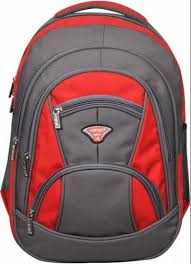bag: (10, 6, 182, 254)
